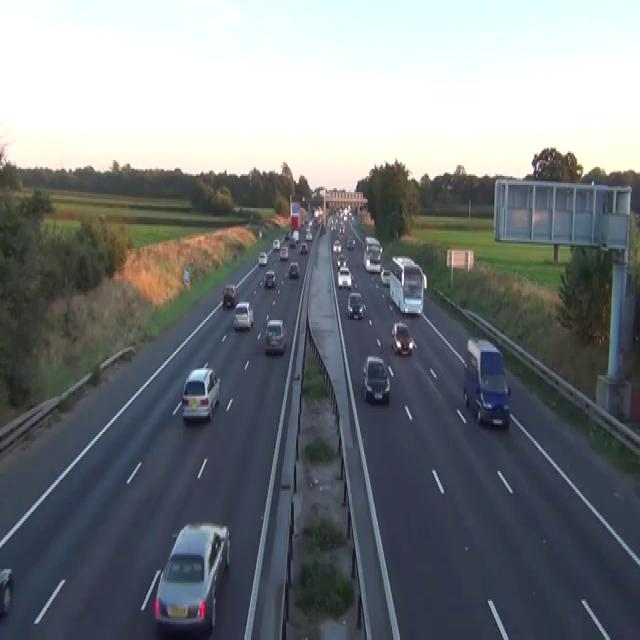Car: (153, 521, 230, 633), (181, 361, 220, 421), (362, 356, 390, 404), (264, 318, 286, 354), (391, 322, 414, 356), (0, 567, 14, 617), (232, 300, 253, 330), (347, 292, 365, 318), (222, 284, 237, 308), (391, 254, 414, 268), (337, 267, 351, 288), (364, 234, 380, 250), (264, 268, 276, 288), (288, 260, 299, 278), (380, 266, 390, 284), (336, 252, 347, 268), (279, 243, 288, 260), (258, 251, 267, 265), (332, 238, 341, 252), (346, 236, 355, 249), (272, 238, 280, 249), (300, 242, 307, 254), (293, 229, 299, 242), (320, 222, 326, 235), (305, 229, 312, 240), (289, 237, 296, 247), (233, 204, 240, 213), (284, 231, 289, 240), (339, 224, 344, 233), (258, 228, 262, 238)
Truck: (462, 338, 511, 428), (389, 254, 427, 315), (363, 235, 382, 272)
